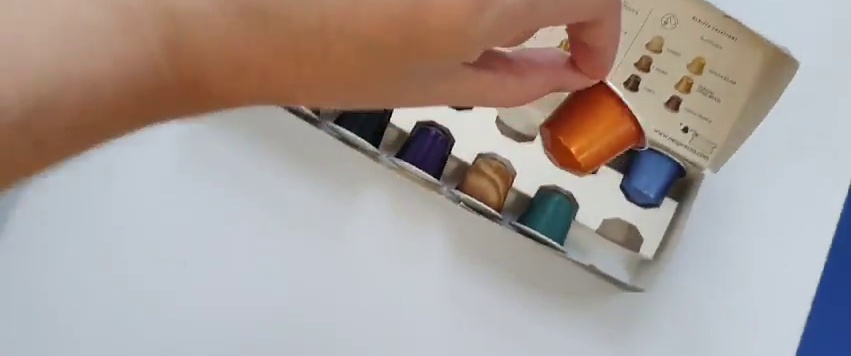capsule_5: (541, 68, 650, 180)
